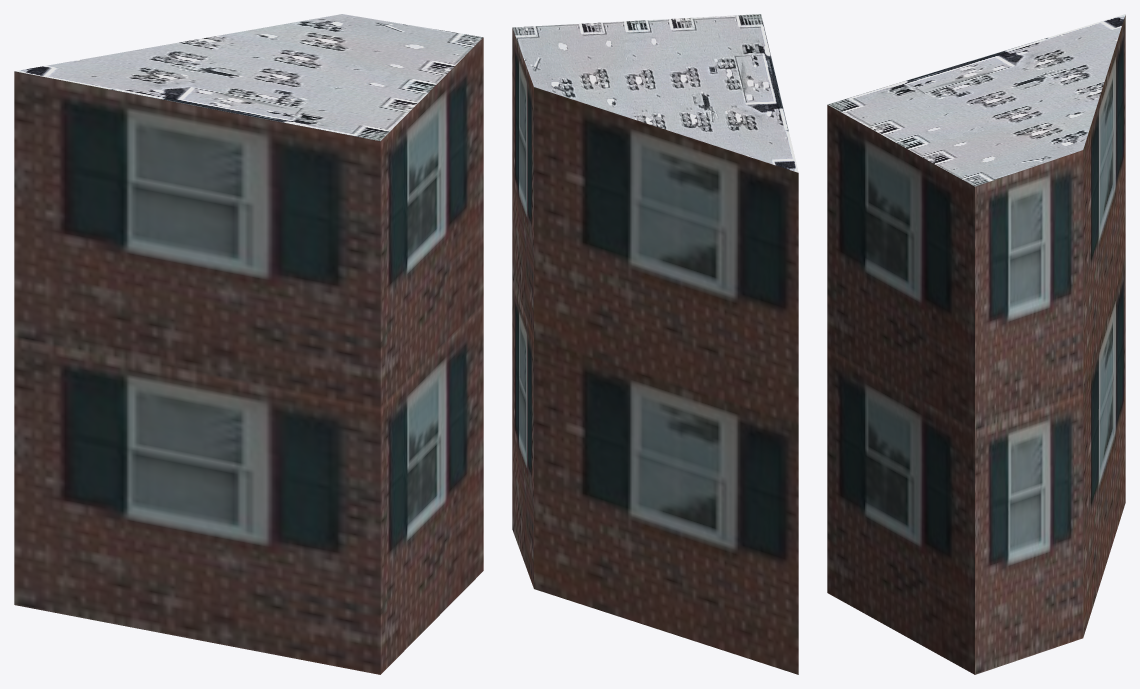
File: ResTex__3956.fbx
3 views of the same model, side by side, from view 1: azimuth 30°, elevation 25°; view 2: azimuth 150°, elevation 25°; view 3: azimuth 270°, elevation 25° (orthographic). The views are drawn at different scales.
Parts seen in each view (by area): view 1: CityEngineMaterial_14_m, CityEngineMaterial_m; view 2: CityEngineMaterial_14_m, CityEngineMaterial_m; view 3: CityEngineMaterial_14_m, CityEngineMaterial_m.
Boxes of the visible parts, x1,y1,x2,y2 form: CityEngineMaterial_14_m: [14, 37, 483, 674]; CityEngineMaterial_m: [15, 14, 482, 140]; CityEngineMaterial_14_m: [512, 28, 798, 674]; CityEngineMaterial_m: [512, 14, 798, 172]; CityEngineMaterial_14_m: [827, 15, 1125, 674]; CityEngineMaterial_m: [827, 14, 1125, 186].
Bounding box in the file's own units: 4.55 × 6 × 3.33.
Materials: 2 (2 with a texture image).
